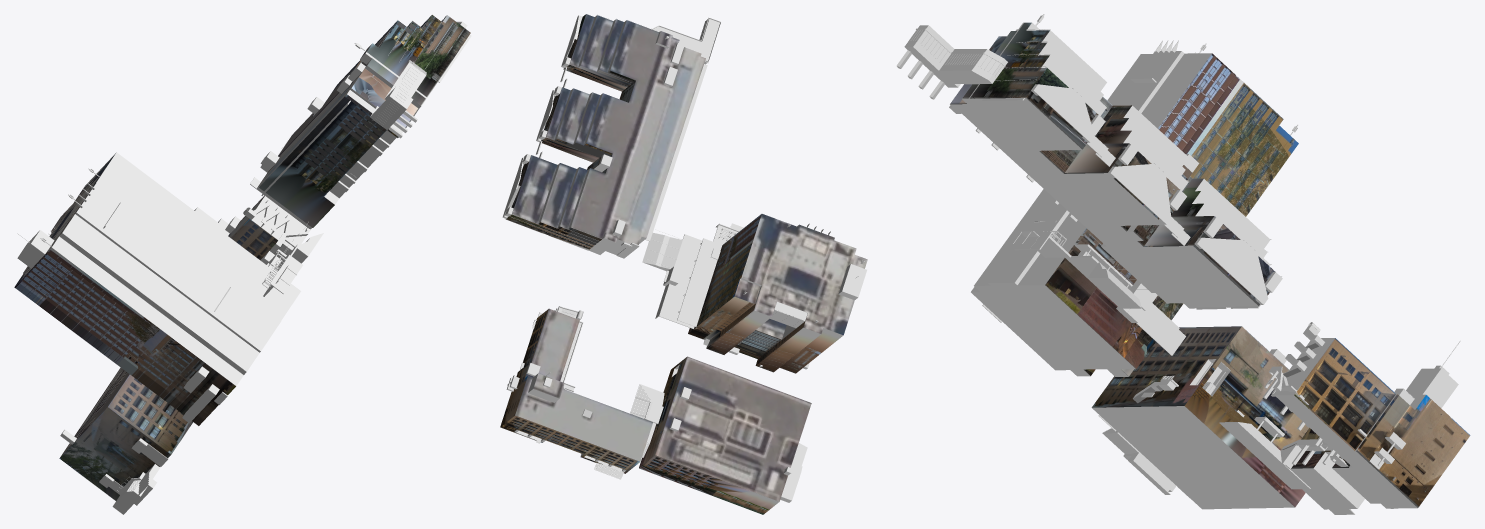
The model's file is 19975_bldg_Building.glb.
3 renders of one model, left to right at view 1: azimuth 30°, elevation 25°; view 2: azimuth 150°, elevation 25°; view 3: azimuth 270°, elevation 25°, orthographic. The views are drawn at different scales.
Bounding box in the file's own units: 143 × 167 × 141.
11 materials, 10 textured.
